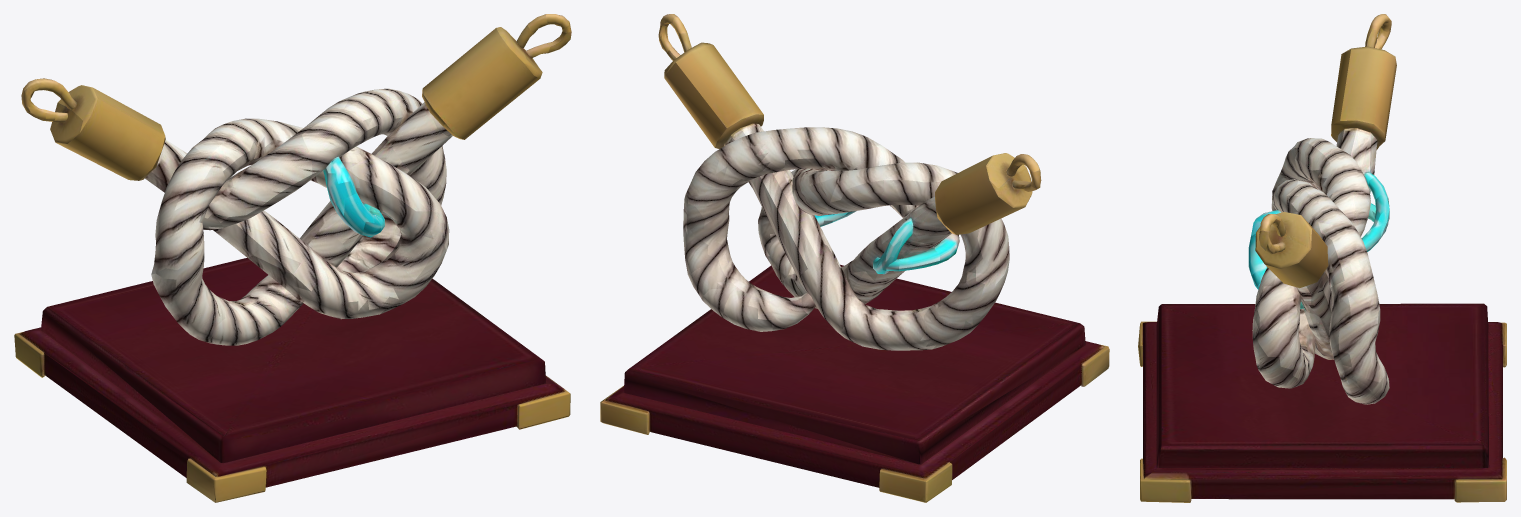
File: eight_knot.glb
3 renders of one model, left to right at view 1: azimuth 30°, elevation 25°; view 2: azimuth 150°, elevation 25°; view 3: azimuth 270°, elevation 25°, orthographic. The views are drawn at different scales.
Bounding box in the file's own units: 1 × 0.6777 × 0.7305.
Materials: 1 (1 with a texture image).
